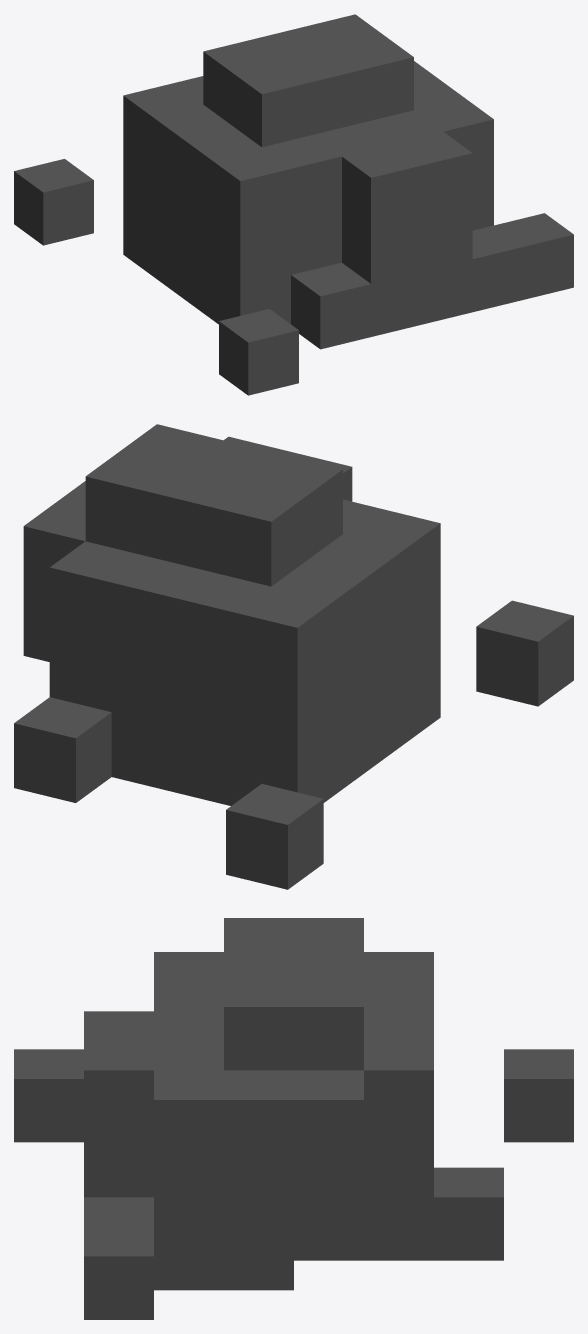
The model's file is MediumRock1.obj.
The picture shows the model from 3 angles, top to bottom: view 1: azimuth 30°, elevation 25°; view 2: azimuth 150°, elevation 25°; view 3: azimuth 270°, elevation 25°; orthographic projection. The views are drawn at different scales.
Visible parts, largest first — view 1: MediumRock1; view 2: MediumRock1; view 3: MediumRock1.
Boxes of the visible parts, x1=… form: MediumRock1: x1=14, y1=14, x2=573, y2=395; MediumRock1: x1=14, y1=424, x2=573, y2=889; MediumRock1: x1=14, y1=918, x2=573, y2=1319.
Bounding box in the file's own units: 7 × 4 × 8.
1 material, 1 textured.
